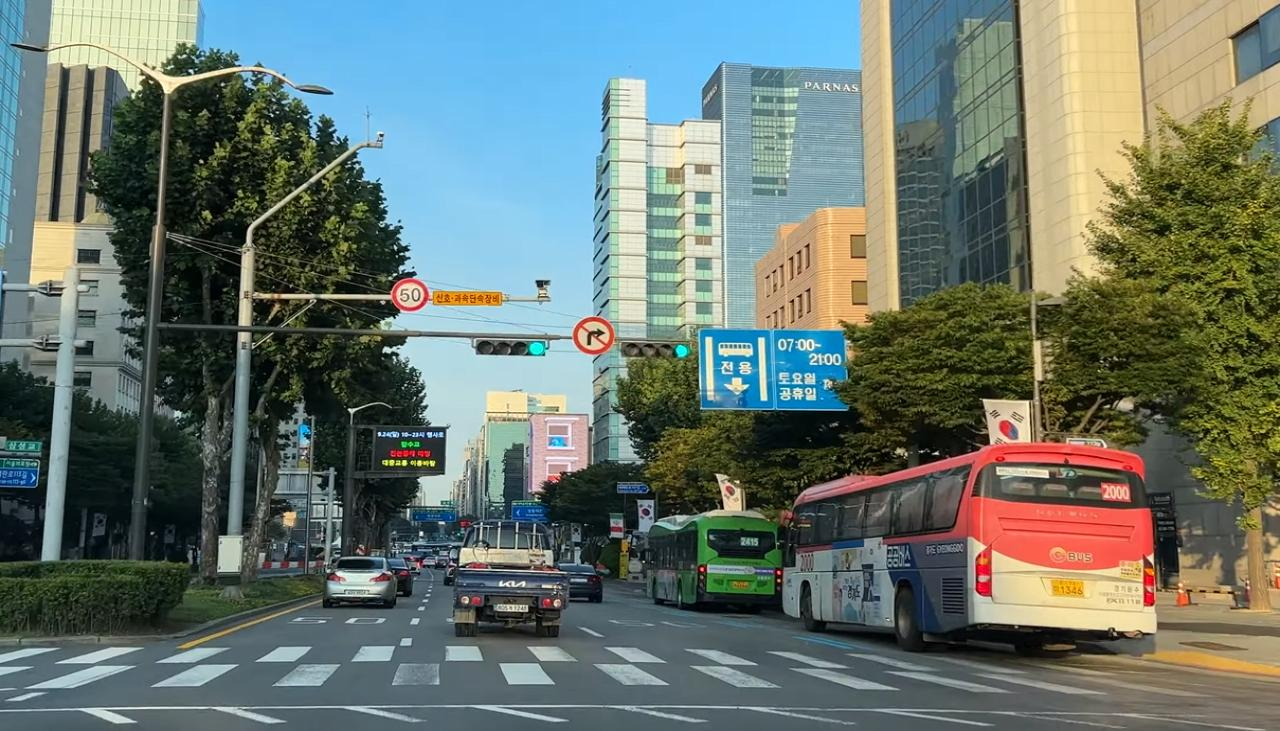Green Light: (527, 340, 545, 356), (674, 343, 690, 357)
